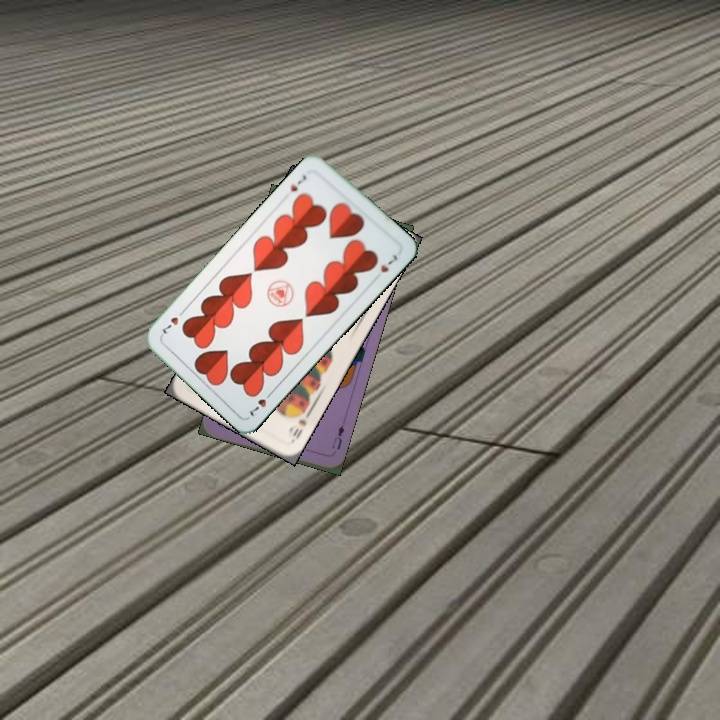EU: (328, 421, 347, 452)
H7: (246, 386, 276, 419), (286, 170, 309, 194)
S10: (289, 408, 313, 441)
